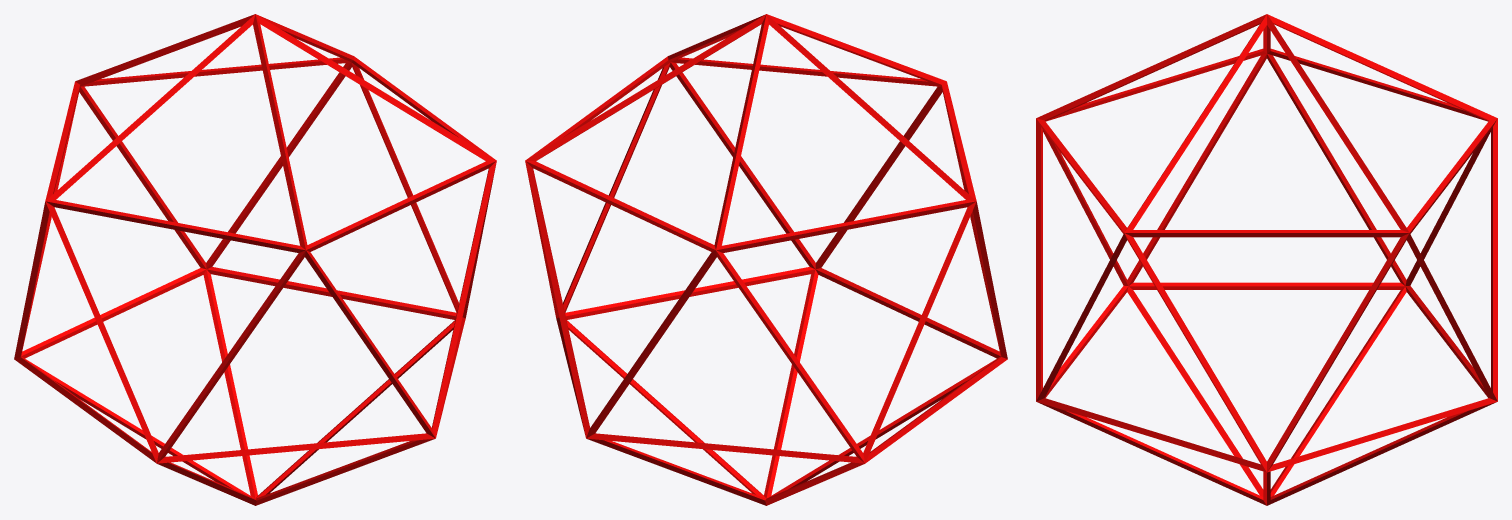
The model's file is EnemyBarrier.obj.
3 renders of one model, left to right at view 1: azimuth 30°, elevation 25°; view 2: azimuth 150°, elevation 25°; view 3: azimuth 270°, elevation 25°, orthographic.
Visible parts, largest first — view 1: EnemyBarrier; view 2: EnemyBarrier; view 3: EnemyBarrier.
Boxes of the visible parts, x1,y1,x2,y2 form: EnemyBarrier: (14,14,496,505); EnemyBarrier: (525,14,1007,505); EnemyBarrier: (1036,14,1497,505).
Bounding box in the file's own units: 1.82 × 2.03 × 1.73.
1 material, 1 textured.
